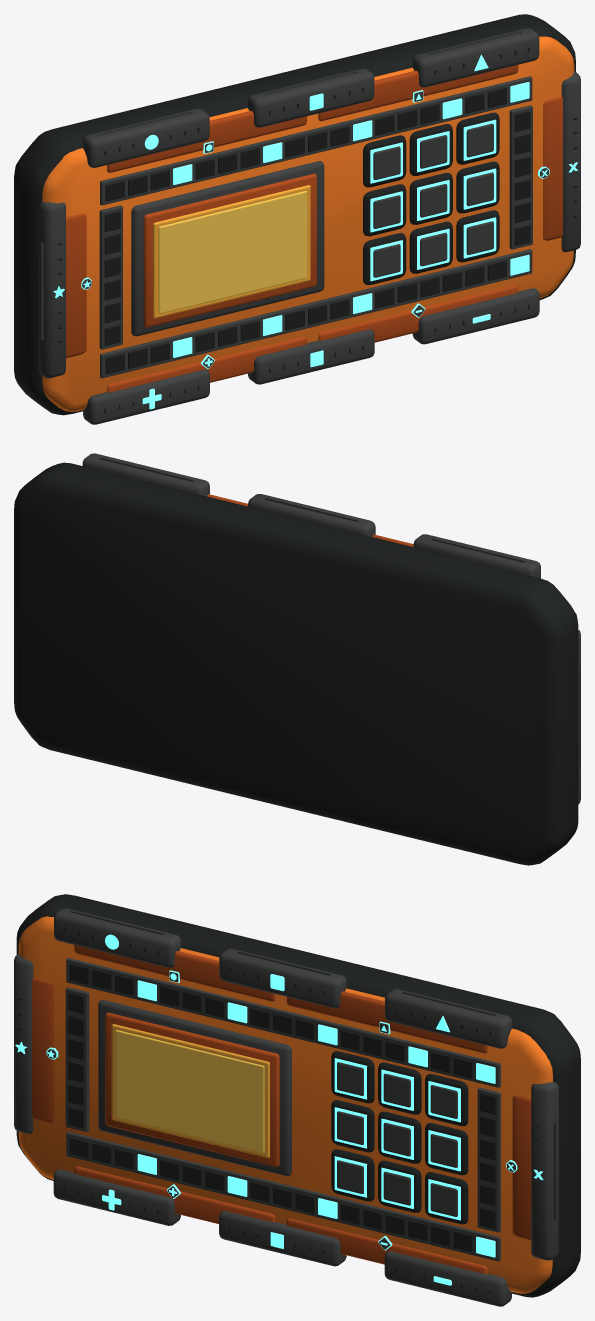
Rendered from Console Card Board.fbx.
3 renders of one model, top to bottom at view 1: azimuth 30°, elevation 25°; view 2: azimuth 150°, elevation 25°; view 3: azimuth 330°, elevation 25°, orthographic.
Visible parts, largest first — view 1: Orange chassis, Rear dark base, Display inner, Display outer, Track frame.001, Track frame, Display bezel, Side handle, Control Bar.002, Control Bar, Control Bar.001, Control Bar.005 (+30 smaller); view 2: Rear dark base, Control Bar, Control Bar.001, Control Bar.002; view 3: Orange chassis, Rear dark base, Display inner, Display outer, Track frame.001, Track frame, Display bezel, Side handle.001, Control Bar.002, Control Bar, Control Bar.001, Control Bar.005 (+30 smaller).
Boxes of the visible parts, x1,y1,x2,y2 form: Orange chassis: [42, 36, 574, 411]; Rear dark base: [14, 14, 575, 415]; Display inner: [158, 191, 307, 313]; Display outer: [131, 161, 324, 336]; Track frame.001: [100, 249, 532, 378]; Track frame: [100, 76, 532, 205]; Display bezel: [143, 173, 316, 327]; Side handle: [39, 202, 65, 378]; Control Bar.002: [412, 28, 539, 87]; Control Bar: [82, 108, 209, 167]; Control Bar.001: [247, 68, 374, 127]; Control Bar.005: [412, 288, 539, 344]; Rear dark base: [14, 462, 578, 865]; Control Bar: [413, 534, 540, 578]; Control Bar.001: [248, 494, 375, 536]; Control Bar.002: [82, 453, 209, 496]; Orange chassis: [18, 916, 552, 1293]; Rear dark base: [16, 894, 580, 1297]; Display inner: [115, 1030, 264, 1153]; Display outer: [98, 1000, 291, 1175]; Track frame.001: [66, 1131, 500, 1261]; Track frame: [66, 958, 500, 1087]; Display bezel: [105, 1012, 279, 1166]; Side handle.001: [531, 1082, 558, 1260]; Control Bar.002: [385, 989, 512, 1048]; Control Bar: [54, 908, 181, 967]; Control Bar.001: [219, 948, 346, 1008]; Control Bar.005: [384, 1251, 511, 1306].
Bounding box in the file's own units: 1660 × 826 × 197.
